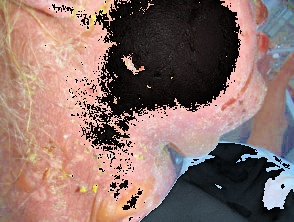SJS-TEN: (0, 0, 282, 222)
